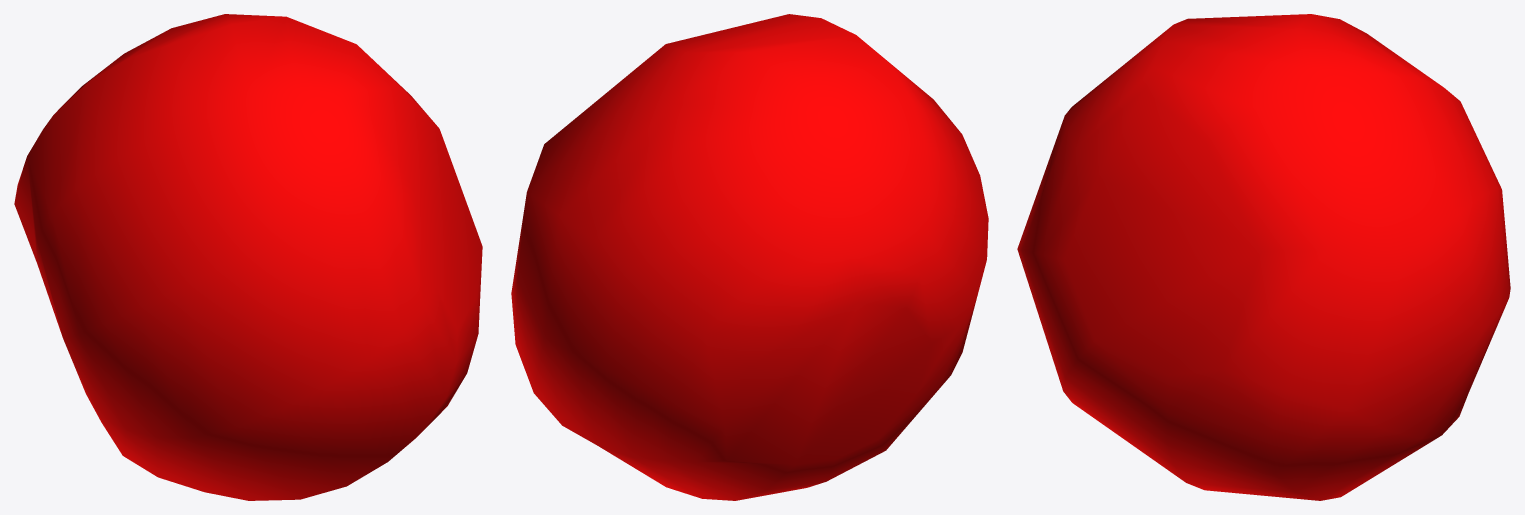
The model's file is apple3_coll.FBX.
The picture shows the model from 3 angles, left to right: view 1: azimuth 30°, elevation 25°; view 2: azimuth 150°, elevation 25°; view 3: azimuth 270°, elevation 25°; orthographic projection. The views are drawn at different scales.
Visible parts, largest first — view 1: apple3_coll; view 2: apple3_coll; view 3: apple3_coll.
Part boxes in pixels (x1,y1,x2,y2): apple3_coll: (14, 14, 482, 500); apple3_coll: (511, 14, 988, 500); apple3_coll: (1017, 14, 1510, 500).
Size of the model in its own units: 60.95 by 61.35 by 62.99.
